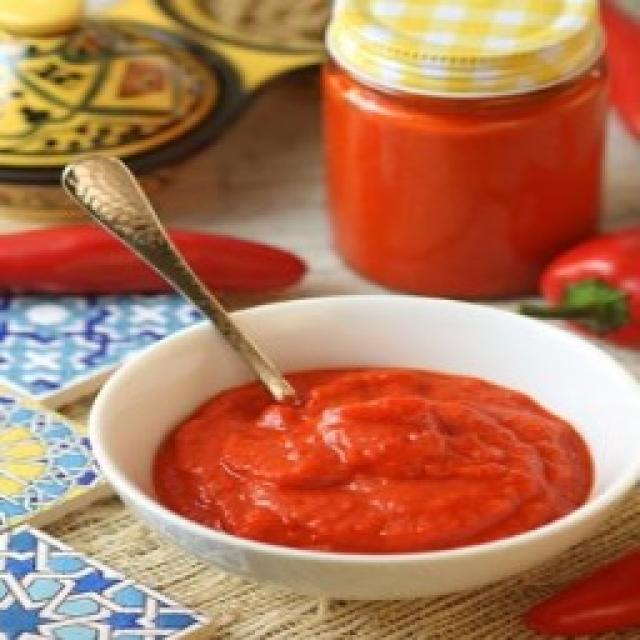Harissa: (150, 365, 592, 565)
